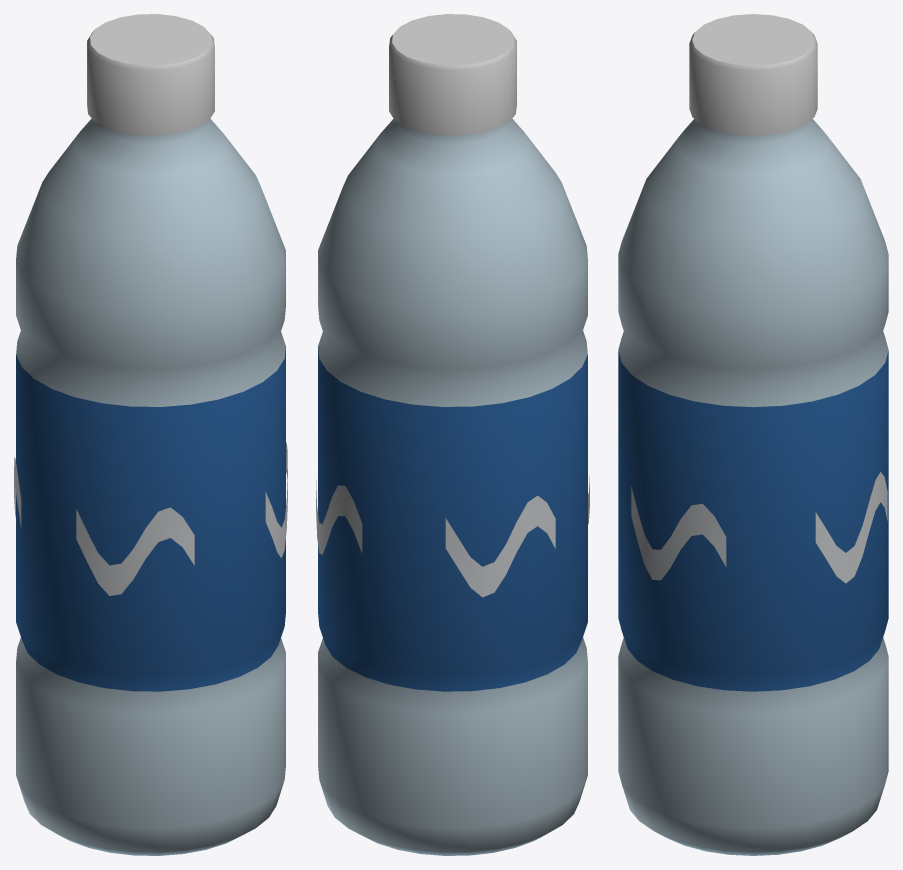
File: sports_drink.glb
The picture shows the model from 3 angles, left to right: view 1: azimuth 30°, elevation 25°; view 2: azimuth 150°, elevation 25°; view 3: azimuth 270°, elevation 25°; orthographic projection.
Parts seen in each view (by area): view 1: sports_drink_vc; view 2: sports_drink_vc; view 3: sports_drink_vc.
Boxes of the visible parts, x1,y1,x2,y2 form: sports_drink_vc: (14,14,287,855); sports_drink_vc: (316,14,589,855); sports_drink_vc: (618,14,888,855).
Bounding box in the file's own units: 0.064 × 0.201 × 0.064.
